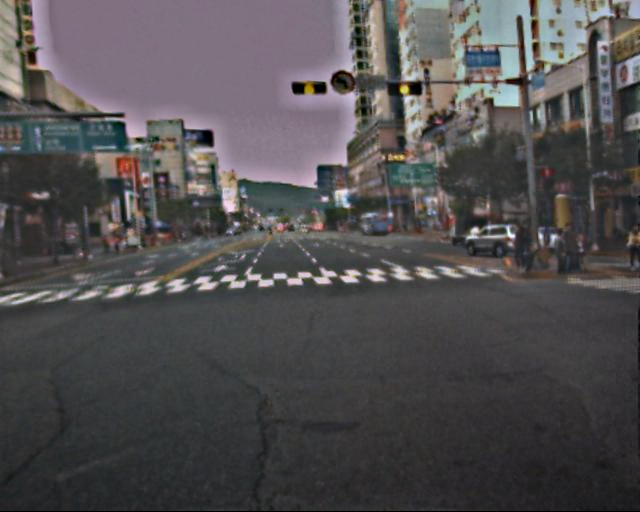person: (520, 222, 540, 277), (559, 220, 579, 274), (618, 223, 640, 272), (552, 230, 572, 280)
